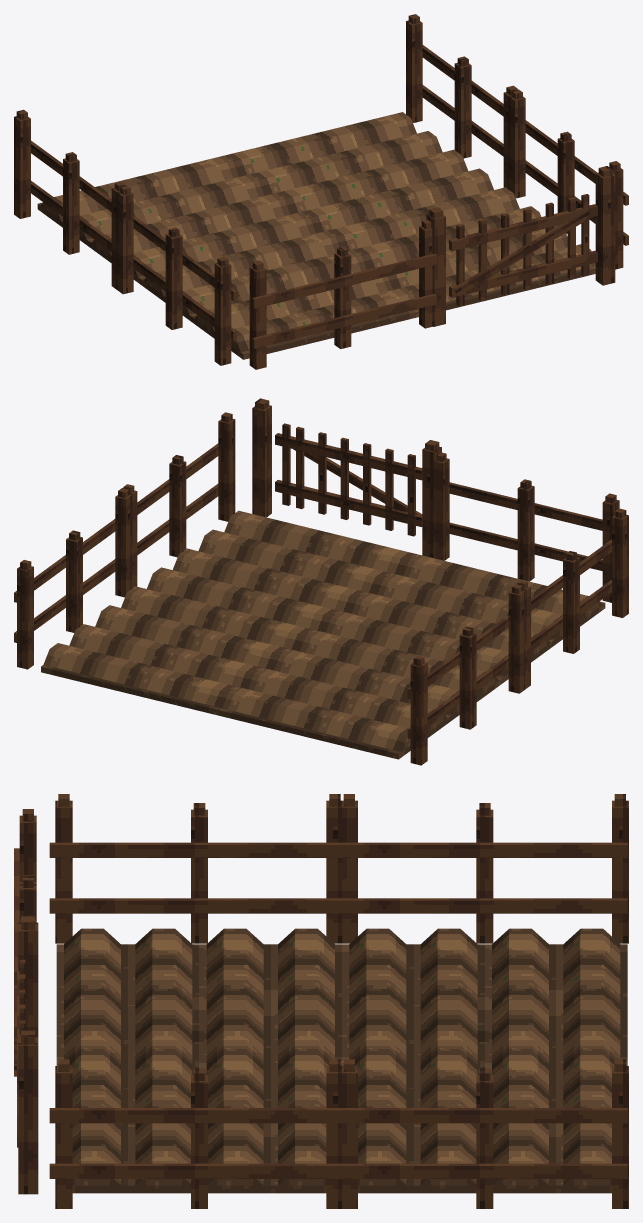
Rendered from MV_Field_A.glb.
3 renders of one model, top to bottom at view 1: azimuth 30°, elevation 25°; view 2: azimuth 150°, elevation 25°; view 3: azimuth 270°, elevation 25°, orthographic. The views are drawn at different scales.
Visible parts, largest first — view 1: MV_Field_Plot_4x4_A.MV_Field_A, MV_Fence_Gate_2m_A.MV_Field_A, MV_Fence_Wood_2m_A.MV_Field_A, MV_Fence_Wood_2m_A.MV_Field_A.001, MV_Fence_Wood_2m_A.MV_Field_A.002, MV_Fence_Wood_2m_A.MV_Field_A.004, MV_Fence_Wood_2m_A.MV_Field_A.003; view 2: MV_Field_Plot_4x4_A.MV_Field_A, MV_Fence_Gate_2m_A.MV_Field_A, MV_Fence_Wood_2m_A.MV_Field_A.002, MV_Fence_Wood_2m_A.MV_Field_A, MV_Fence_Wood_2m_A.MV_Field_A.004, MV_Fence_Wood_2m_A.MV_Field_A.003, MV_Fence_Wood_2m_A.MV_Field_A.001; view 3: MV_Field_Plot_4x4_A.MV_Field_A, MV_Fence_Wood_2m_A.MV_Field_A.003, MV_Fence_Wood_2m_A.MV_Field_A.001, MV_Fence_Wood_2m_A.MV_Field_A.004, MV_Fence_Wood_2m_A.MV_Field_A.002, MV_Fence_Gate_2m_A.MV_Field_A, MV_Fence_Wood_2m_A.MV_Field_A.
Part boxes in pixels (x1,y1,x2,y2): MV_Field_Plot_4x4_A.MV_Field_A: (37, 112, 595, 359); MV_Fence_Gate_2m_A.MV_Field_A: (426, 166, 615, 326); MV_Fence_Wood_2m_A.MV_Field_A: (249, 219, 436, 369); MV_Fence_Wood_2m_A.MV_Field_A.001: (117, 185, 236, 365); MV_Fence_Wood_2m_A.MV_Field_A.002: (14, 109, 125, 290); MV_Fence_Wood_2m_A.MV_Field_A.004: (406, 14, 517, 189); MV_Fence_Wood_2m_A.MV_Field_A.003: (508, 89, 628, 269); MV_Field_Plot_4x4_A.MV_Field_A: (41, 510, 605, 759); MV_Fence_Gate_2m_A.MV_Field_A: (252, 398, 441, 558); MV_Fence_Wood_2m_A.MV_Field_A.002: (407, 584, 524, 765); MV_Fence_Wood_2m_A.MV_Field_A: (435, 452, 619, 602); MV_Fence_Wood_2m_A.MV_Field_A.004: (14, 488, 130, 669); MV_Fence_Wood_2m_A.MV_Field_A.003: (123, 412, 235, 588); MV_Fence_Wood_2m_A.MV_Field_A.001: (516, 508, 628, 689); MV_Field_Plot_4x4_A.MV_Field_A: (56, 928, 627, 1193); MV_Fence_Wood_2m_A.MV_Field_A.003: (49, 1059, 343, 1208); MV_Fence_Wood_2m_A.MV_Field_A.001: (49, 794, 343, 943); MV_Fence_Wood_2m_A.MV_Field_A.004: (335, 1059, 628, 1208); MV_Fence_Wood_2m_A.MV_Field_A.002: (335, 794, 628, 943); MV_Fence_Gate_2m_A.MV_Field_A: (14, 916, 38, 1194); MV_Fence_Wood_2m_A.MV_Field_A: (14, 809, 36, 1038).
Bounding box in the file's own units: 4.56 × 1.21 × 4.31.
Materials: 2 (2 with a texture image).
